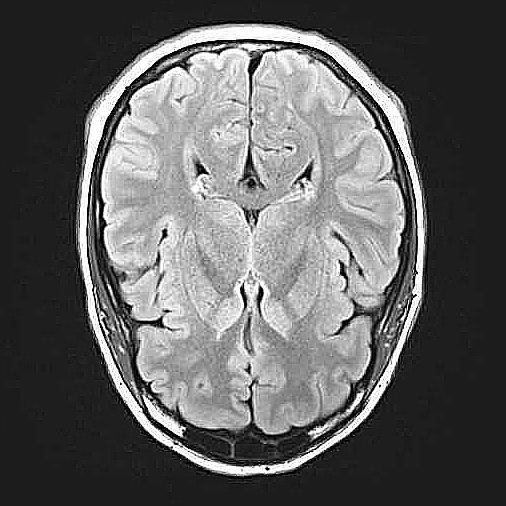Normal_Brain: (1, 1, 506, 506)
